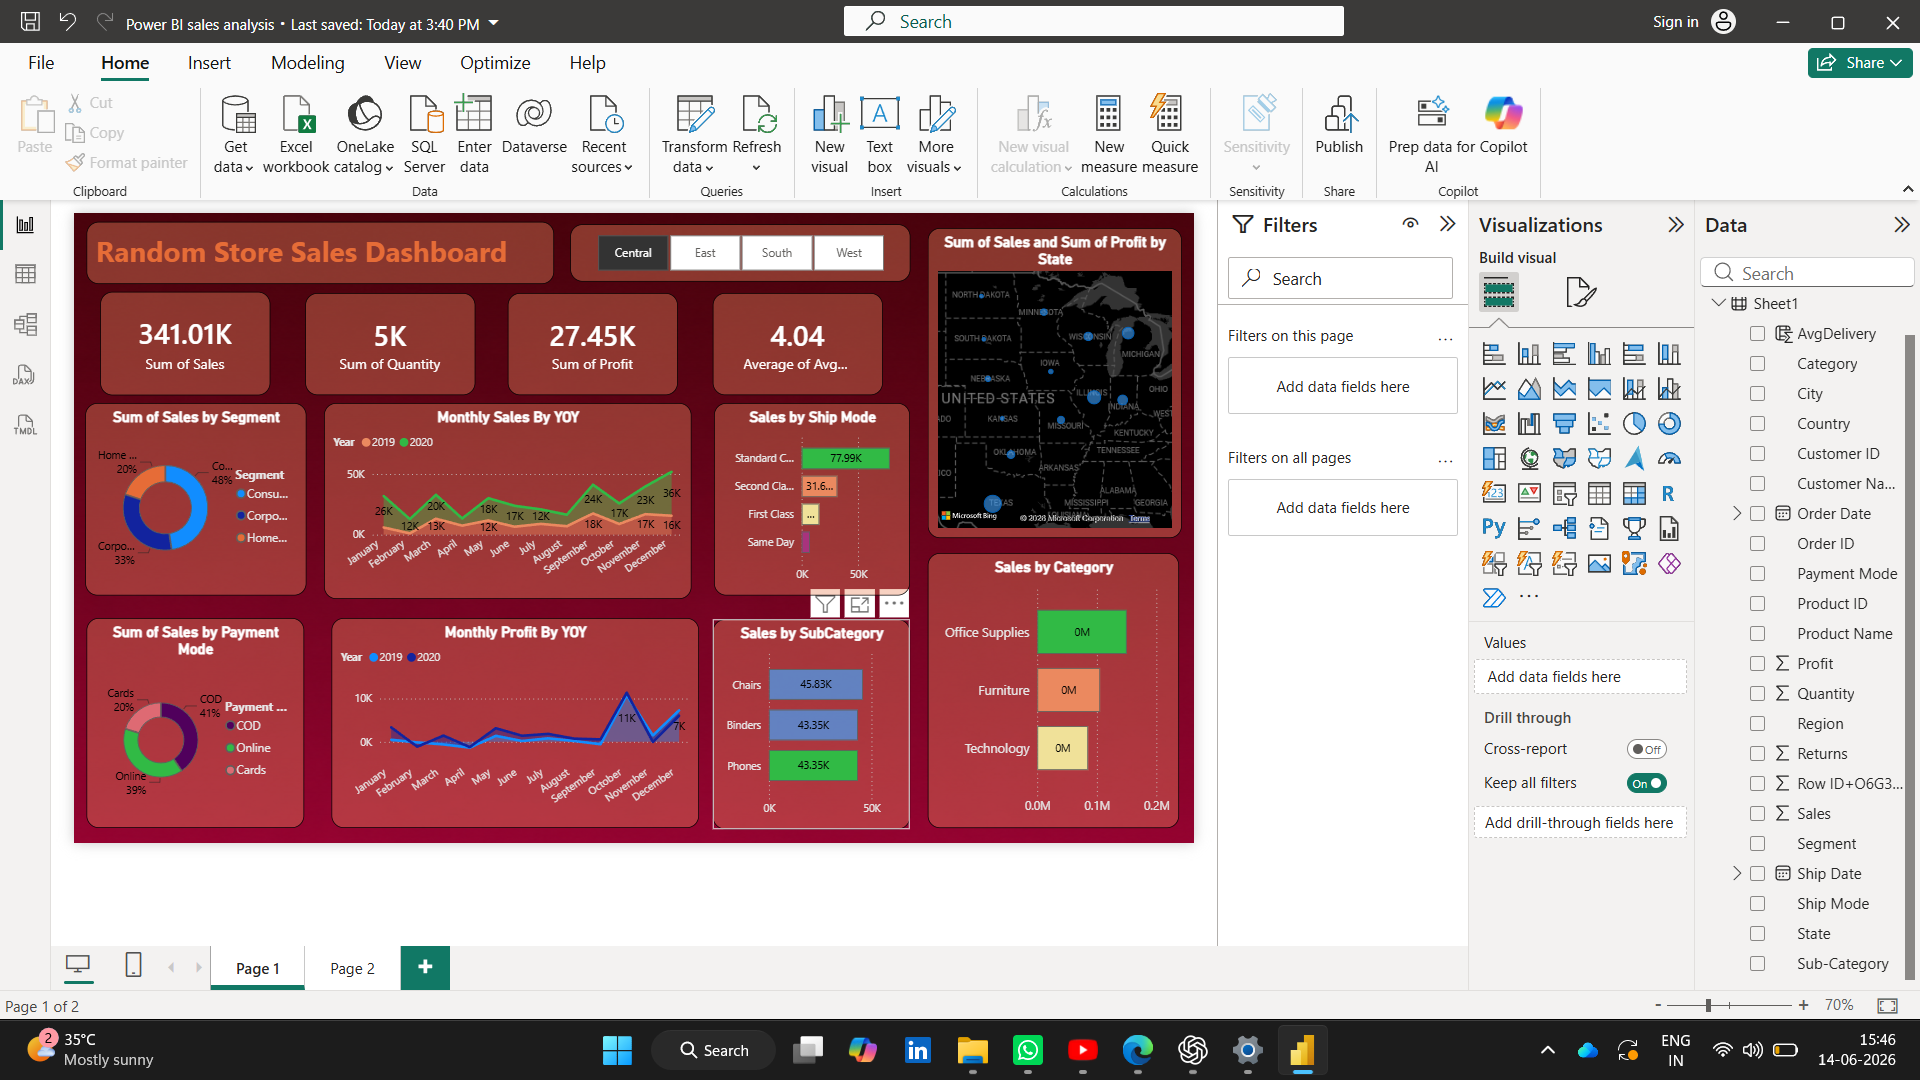

The page's visual inventory and layout, read from the dashboard file:
{"tool":"powerbi","page":{"name":"Page 1","canvas":[1280,720],"ordinal":0},"visuals":[{"type":"clusteredBarChart","title":" Sales by Category","fields":{"Category":["Sheet1.Category"],"Y":["Sum(Sheet1.Sales)"]},"box":[975.7,388.6,287.1,314.3],"z":0},{"type":"clusteredBarChart","title":" Sales by SubCategory","fields":{"Category":["Sheet1.Sub-Category"],"Y":["Sum(Sheet1.Sales)"]},"box":[730,464.3,225.7,240],"z":1000},{"type":"clusteredBarChart","title":" Sales by Ship Mode","fields":{"Category":["Sheet1.Ship Mode"],"Y":["Sum(Sheet1.Sales)"]},"box":[731.4,217.1,224.3,220],"z":2000},{"type":"stackedAreaChart","title":"Monthly Sales By YOY","fields":{"Category":["Sheet1.Order Date.Variation.Date Hierarchy.Month"],"Y":["Sum(Sheet1.Sales)"],"Series":["Sheet1.Order Date.Variation.Date Hierarchy.Year"]},"box":[285.7,217.1,420,224.3],"z":3000},{"type":"stackedAreaChart","title":"Monthly Profit By YOY","fields":{"Category":["Sheet1.Order Date.Variation.Date Hierarchy.Month"],"Series":["Sheet1.Order Date.Variation.Date Hierarchy.Year"],"Y":["Sum(Sheet1.Profit)"]},"box":[294.3,462.9,420,240],"z":4000},{"type":"map","fields":{"Category":["Sheet1.State"],"Size":["Sum(Sheet1.Sales)"]},"box":[975.7,17.1,290,354.3],"z":5000},{"type":"donutChart","fields":{"Category":["Sheet1.Segment"],"Y":["Sum(Sheet1.Sales)"]},"box":[12.9,217.1,252.9,220],"z":6000},{"type":"donutChart","fields":{"Category":["Sheet1.Payment Mode"],"Y":["Sum(Sheet1.Sales)"]},"box":[14.3,462.9,248.6,240],"z":7000},{"type":"slicer","fields":{"Values":["Sheet1.Region"]},"box":[567.1,12.9,388.6,65.7],"z":8000},{"type":"textbox","box":[14.3,10,534.3,71.4],"z":9000},{"type":"cardVisual","title":"Sales","fields":{"Data":["Sum(Sheet1.Sales)"]},"box":[30,90,194.3,118.6],"z":10000},{"type":"cardVisual","title":"Quantity","fields":{"Data":["Sum(Sheet1.Quantity)"]},"box":[264.3,91.4,194.3,117.1],"z":11000},{"type":"cardVisual","title":"Sales","fields":{"Data":["Sum(Sheet1.Profit)"]},"box":[495.7,91.4,194.3,117.1],"z":12000},{"type":"cardVisual","title":"AverageDeliveryDay","fields":{"Data":["Avg(Sheet1.AvgDelivery)"]},"box":[730,91.4,194.3,117.1],"z":13000}]}

Visuals, with their boxes on the page's 1280x720 design canvas (x1, y1, x2, y2). These are canvas units, not pixel positions in the 1920x1080 screenshot, which may show the page scaled, cropped or inside an application window:
" Sales by Category" clusteredBarChart: 976/389/1263/703
" Sales by SubCategory" clusteredBarChart: 730/464/956/704
" Sales by Ship Mode" clusteredBarChart: 731/217/956/437
"Monthly Sales By YOY" stackedAreaChart: 286/217/706/441
"Monthly Profit By YOY" stackedAreaChart: 294/463/714/703
map - Sheet1.State x Sum(Sheet1.Sales): 976/17/1266/371
donutChart - Sheet1.Segment x Sum(Sheet1.Sales): 13/217/266/437
donutChart - Sheet1.Payment Mode x Sum(Sheet1.Sales): 14/463/263/703
slicer - Sheet1.Region: 567/13/956/79
textbox: 14/10/549/81
"Sales" cardVisual: 30/90/224/209
"Quantity" cardVisual: 264/91/459/208
"Sales" cardVisual: 496/91/690/208
"AverageDeliveryDay" cardVisual: 730/91/924/208
